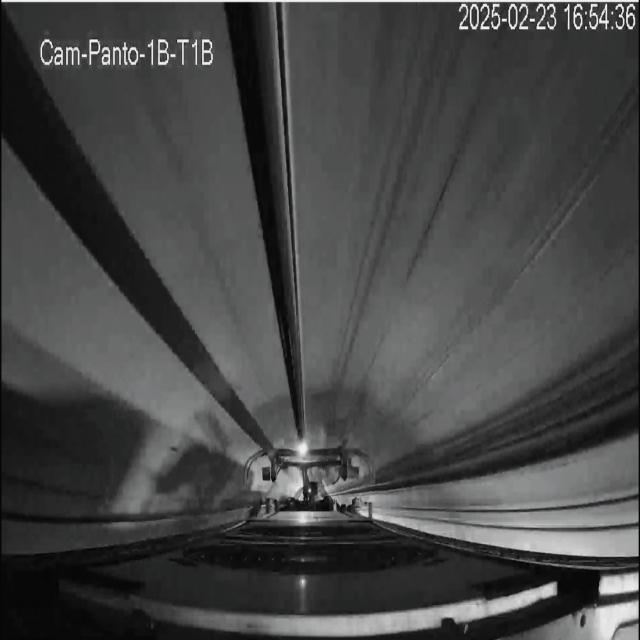Camera Stamp: (35, 28, 221, 71)
Date Stamp: (459, 3, 636, 33)
Sparks: (293, 436, 312, 463)
